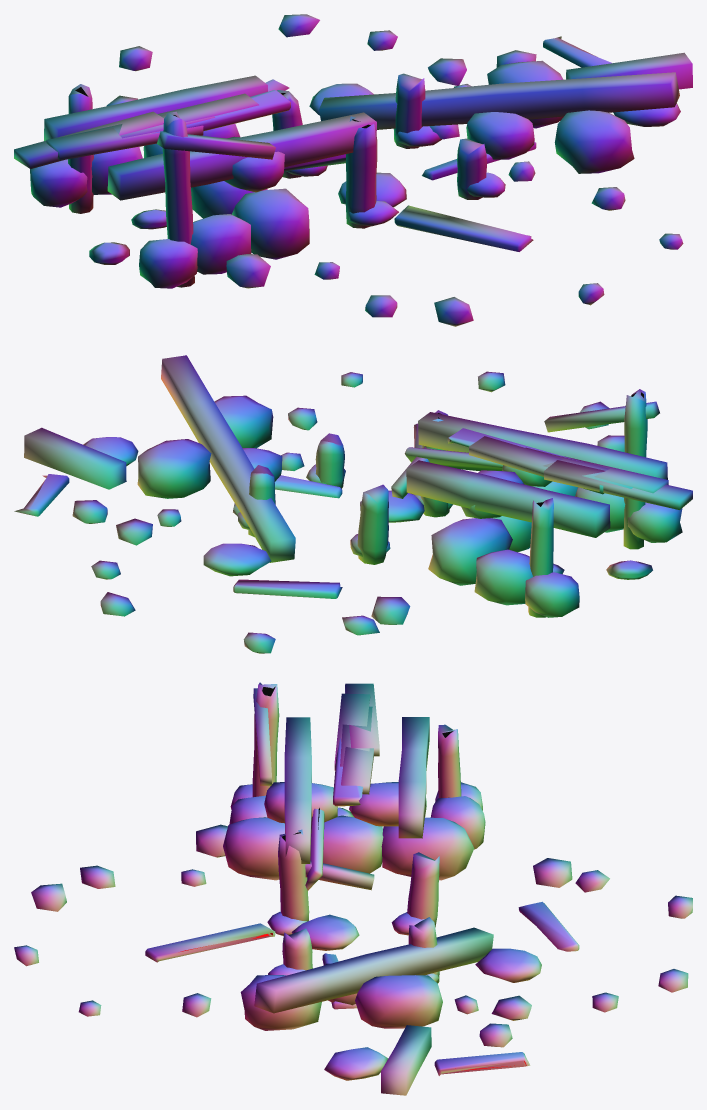
The model's file is SM_Prop_March_BurnedBridge.fbx.
3 views of the same model, one above another, from view 1: azimuth 30°, elevation 25°; view 2: azimuth 150°, elevation 25°; view 3: azimuth 270°, elevation 25° (orthographic). The views are drawn at different scales.
Visible parts, largest first — view 1: SM_Prop_March_BurnedBridge; view 2: SM_Prop_March_BurnedBridge; view 3: SM_Prop_March_BurnedBridge.
Boxes of the visible parts, x1,y1,x2,y2 form: SM_Prop_March_BurnedBridge: (14,14,692,326); SM_Prop_March_BurnedBridge: (14,355,692,653); SM_Prop_March_BurnedBridge: (14,682,692,1095).
Size of the model in its own units: 5.02 by 1.17 by 4.62.
